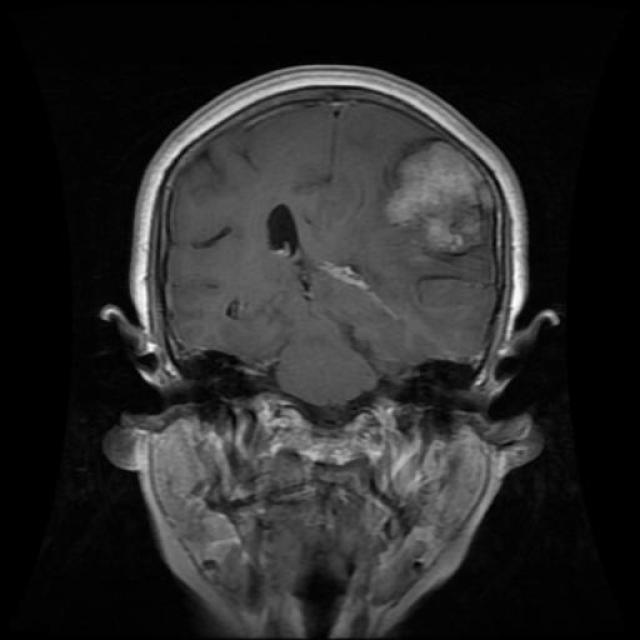meningioma: (388, 142, 482, 255)
